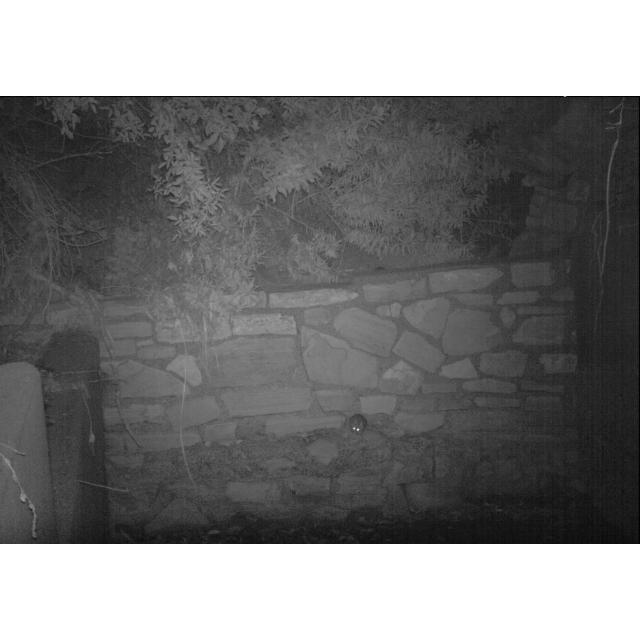animals: (302, 410, 371, 442)
